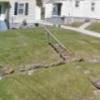stairs: (47, 42, 77, 64)
